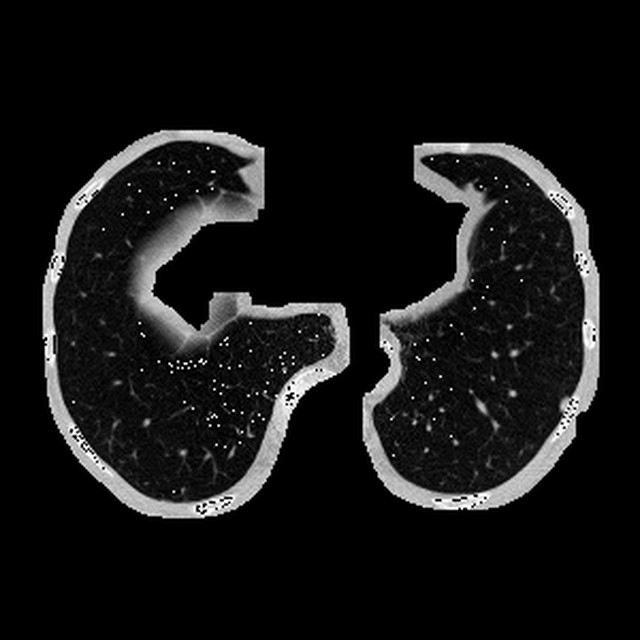PN: (559, 399, 567, 407)
